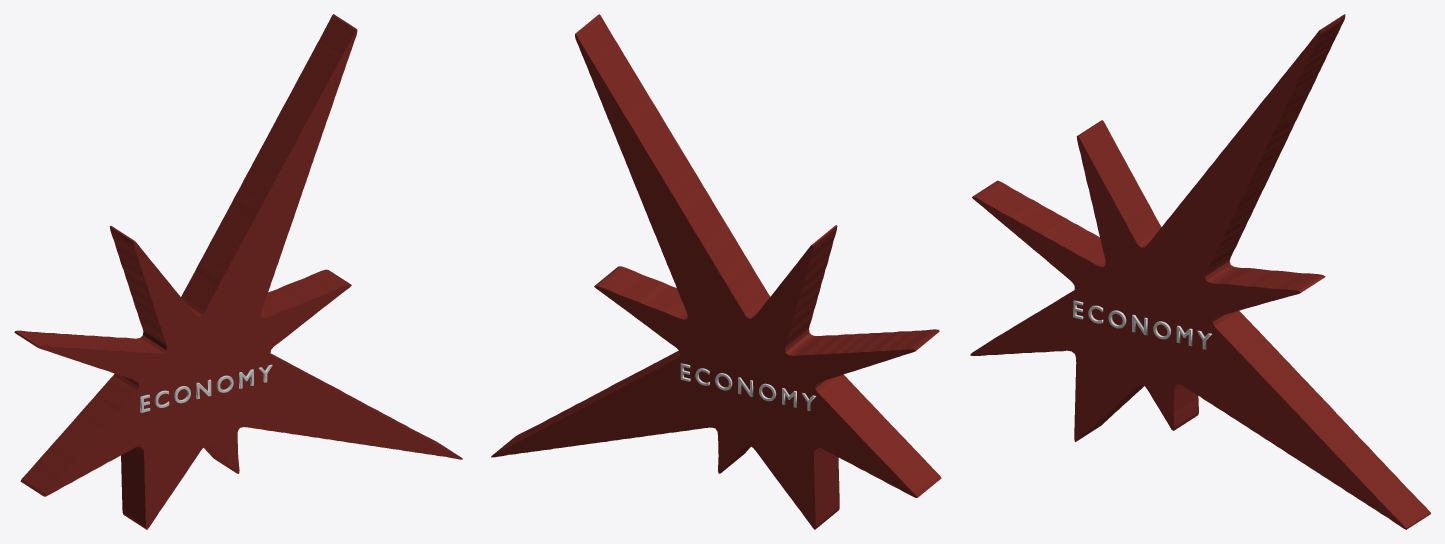
3 renders of one model, left to right at view 1: azimuth 30°, elevation 25°; view 2: azimuth 150°, elevation 25°; view 3: azimuth 330°, elevation 25°, orthographic. The views are drawn at different scales.
Parts seen in each view (by area): view 1: Plane, Efficiency Spark; view 2: Plane, Efficiency Spark.002; view 3: Plane, Efficiency Spark.
Boxes of the visible parts, bbox=[...] form: Plane: bbox=[14, 14, 462, 529]; Efficiency Spark: bbox=[140, 364, 272, 412]; Plane: bbox=[491, 14, 941, 529]; Efficiency Spark.002: bbox=[680, 363, 815, 410]; Plane: bbox=[970, 14, 1430, 529]; Efficiency Spark: bbox=[1073, 300, 1211, 349].
Bounding box in the file's own units: 13.92 × 14.17 × 2.04.
